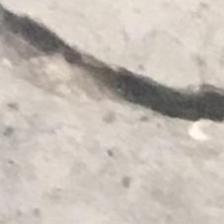Crack: (0, 2, 224, 160)
